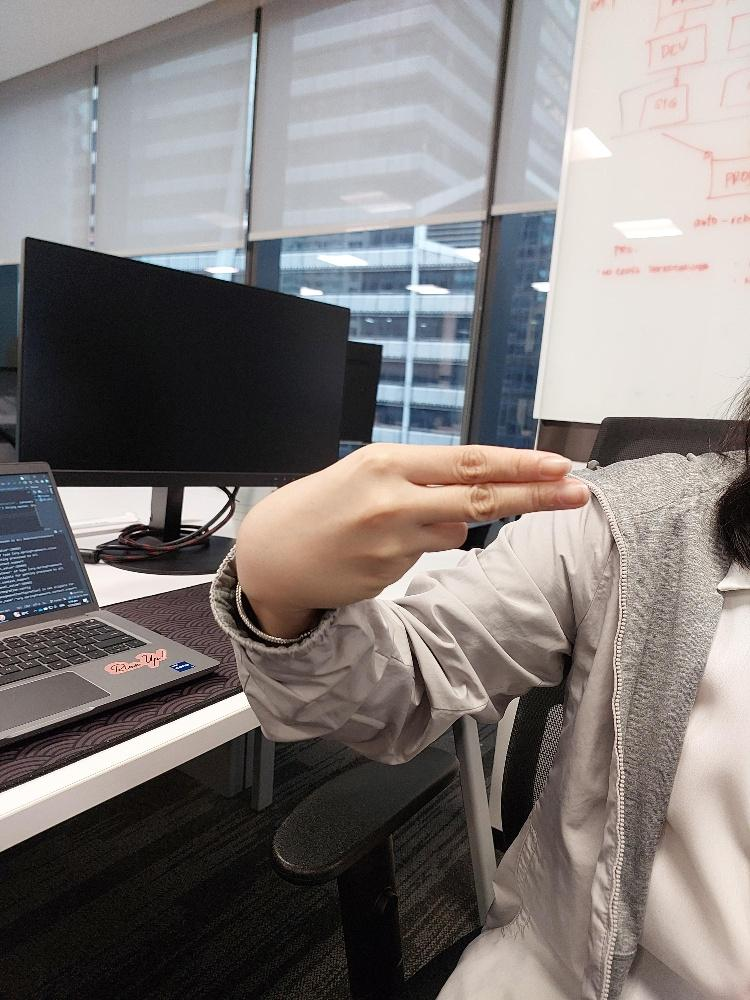h: (273, 440, 588, 610)
